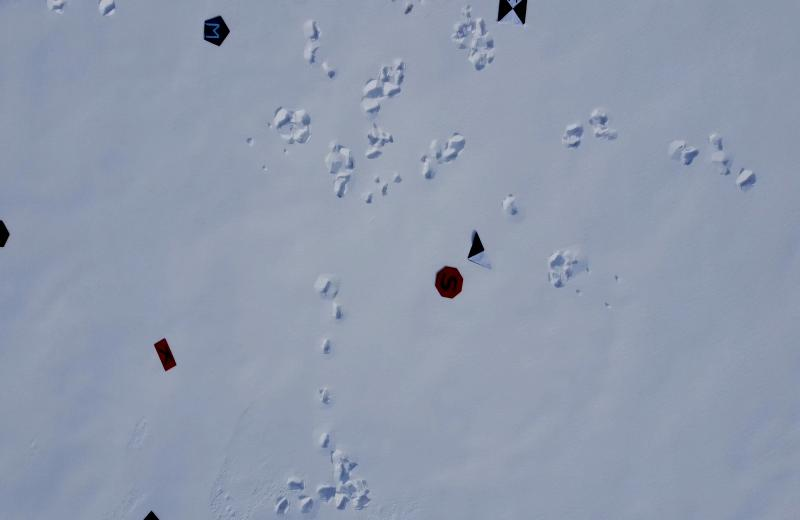Octagon: (431, 264, 467, 303)
Pentagon: (200, 13, 234, 50)
Rectangle: (148, 336, 178, 373)
